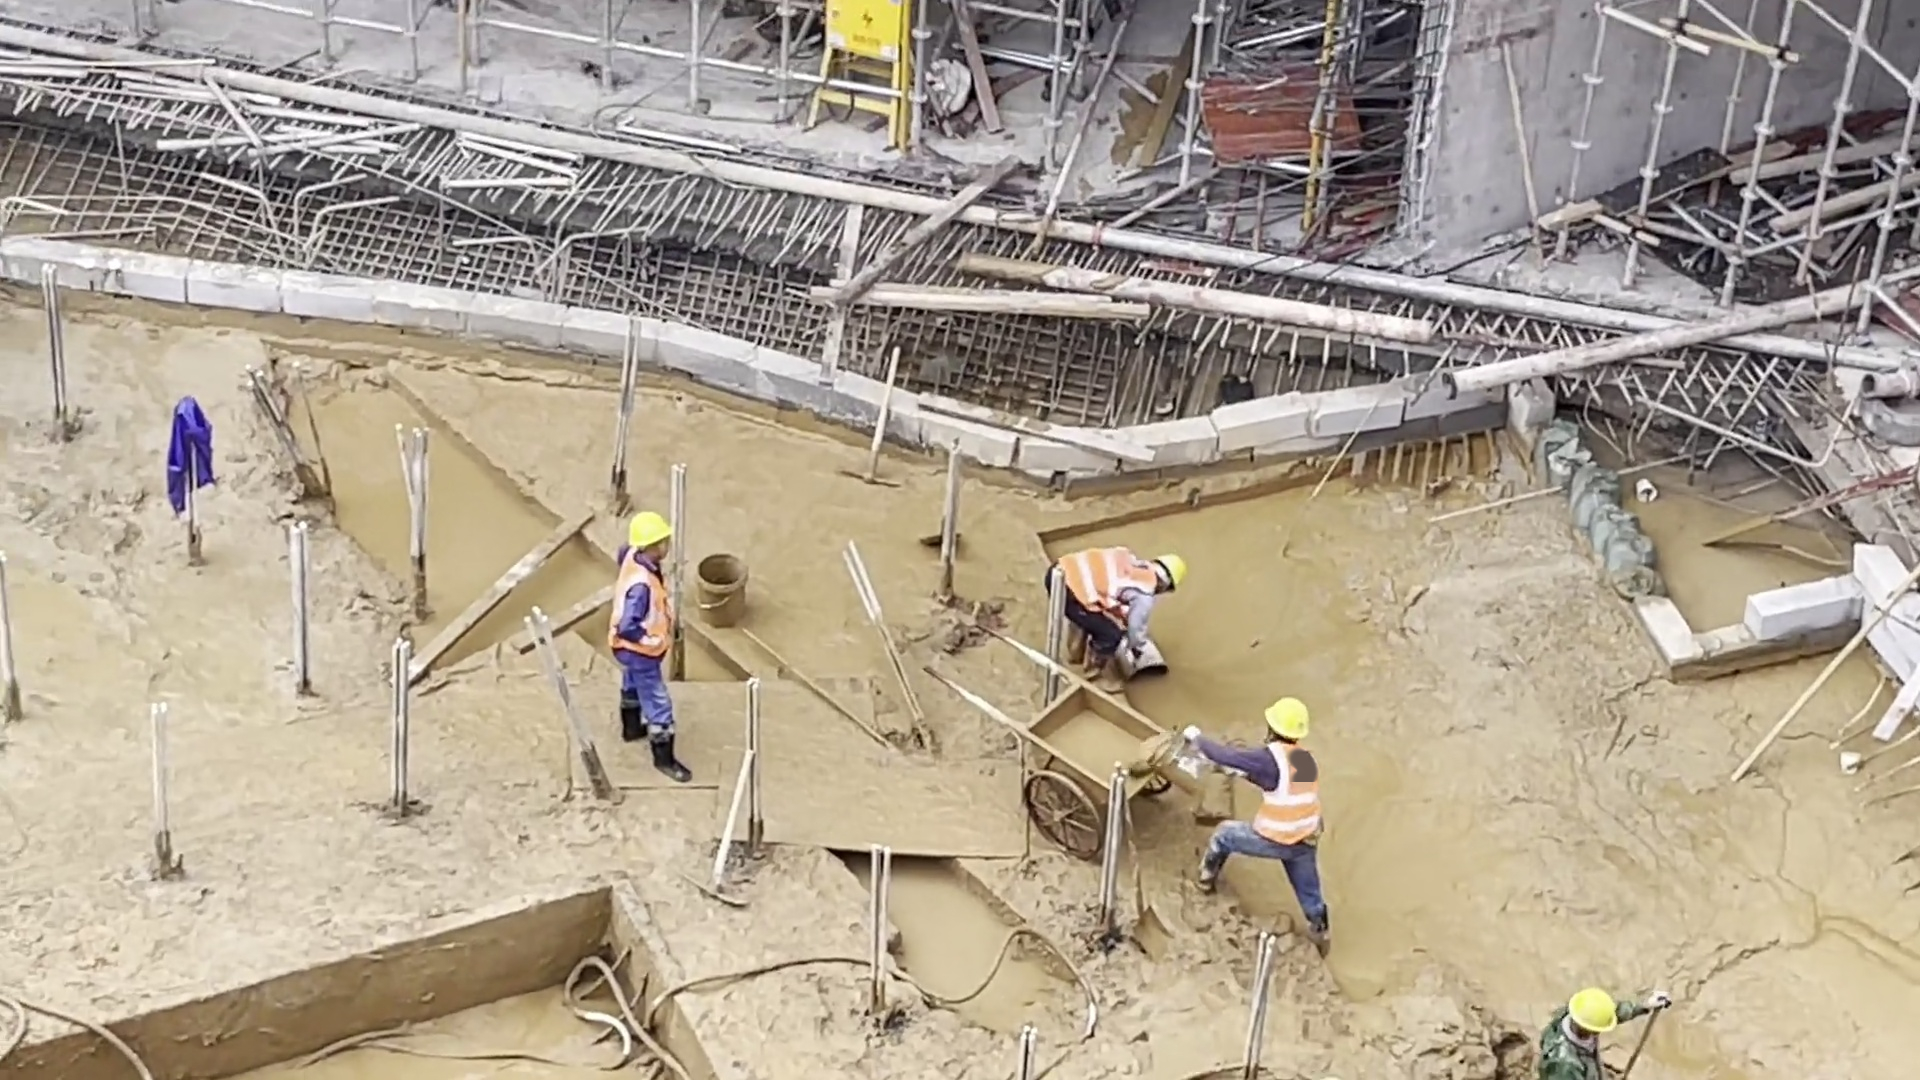helmet: (1264, 695, 1312, 744), (1569, 987, 1620, 1033), (626, 511, 672, 551), (1160, 553, 1186, 592)
person: (1186, 699, 1328, 952), (608, 505, 693, 783), (1055, 532, 1180, 679), (1540, 979, 1668, 1079)
vest: (1253, 743, 1324, 845), (610, 550, 679, 656), (1055, 546, 1158, 614)
